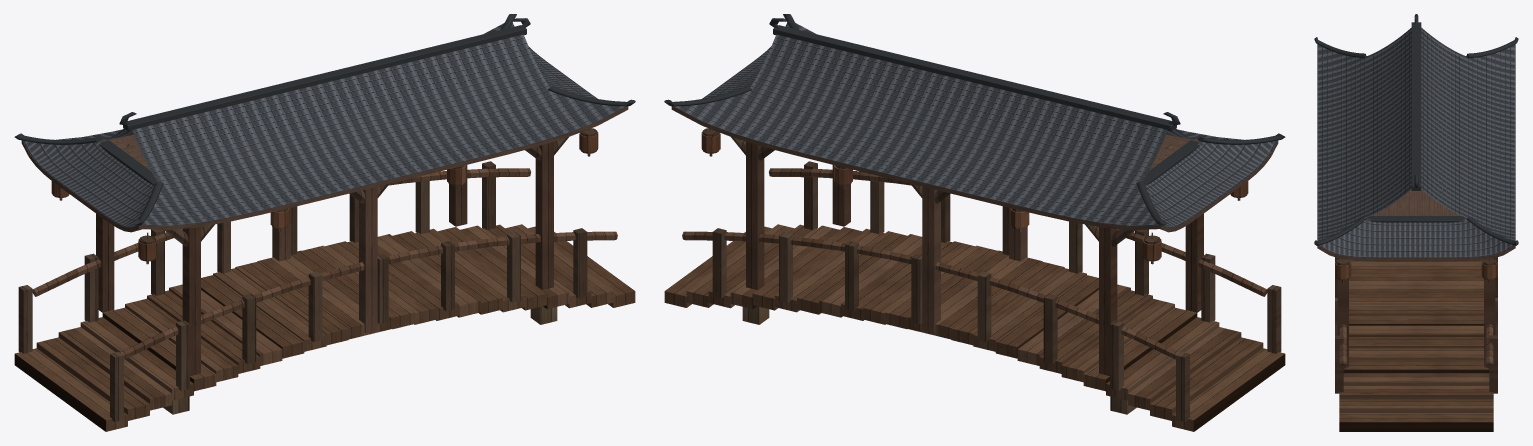
File: build-covered-bridge.glb
The picture shows the model from 3 angles, left to right: view 1: azimuth 30°, elevation 25°; view 2: azimuth 150°, elevation 25°; view 3: azimuth 270°, elevation 25°; orthographic projection. The views are drawn at different scales.
Visible parts, largest first — view 1: build-covered-bridge-SculptedModel, build-covered-bridge-Teahouse; view 2: build-covered-bridge-SculptedModel, build-covered-bridge-Teahouse; view 3: build-covered-bridge-Teahouse, build-covered-bridge-SculptedModel.
Part boxes in pixels (x1,y1,x2,y2): build-covered-bridge-SculptedModel: [14, 128, 635, 431]; build-covered-bridge-Teahouse: [14, 14, 635, 232]; build-covered-bridge-SculptedModel: [664, 128, 1285, 431]; build-covered-bridge-Teahouse: [664, 14, 1285, 232]; build-covered-bridge-Teahouse: [1314, 14, 1518, 261]; build-covered-bridge-SculptedModel: [1335, 257, 1497, 431].
Bounding box in the file's own units: 7.2 × 3.55 × 2.85.
4 materials, 3 textured.
